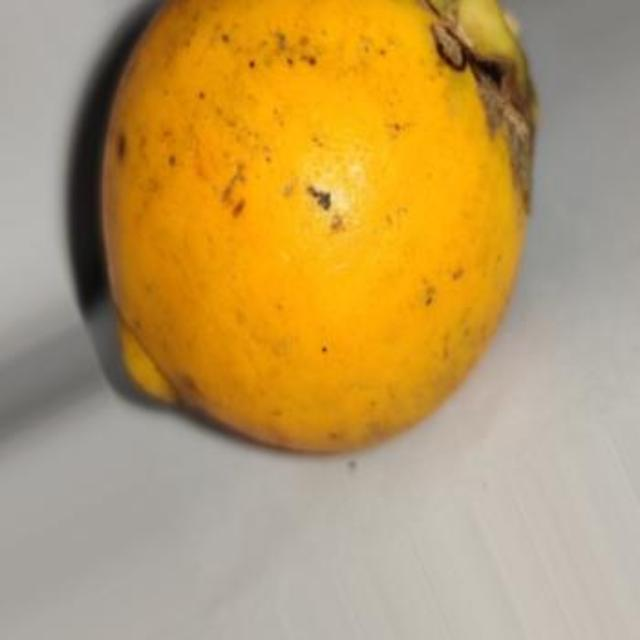good: (93, 0, 539, 457)
